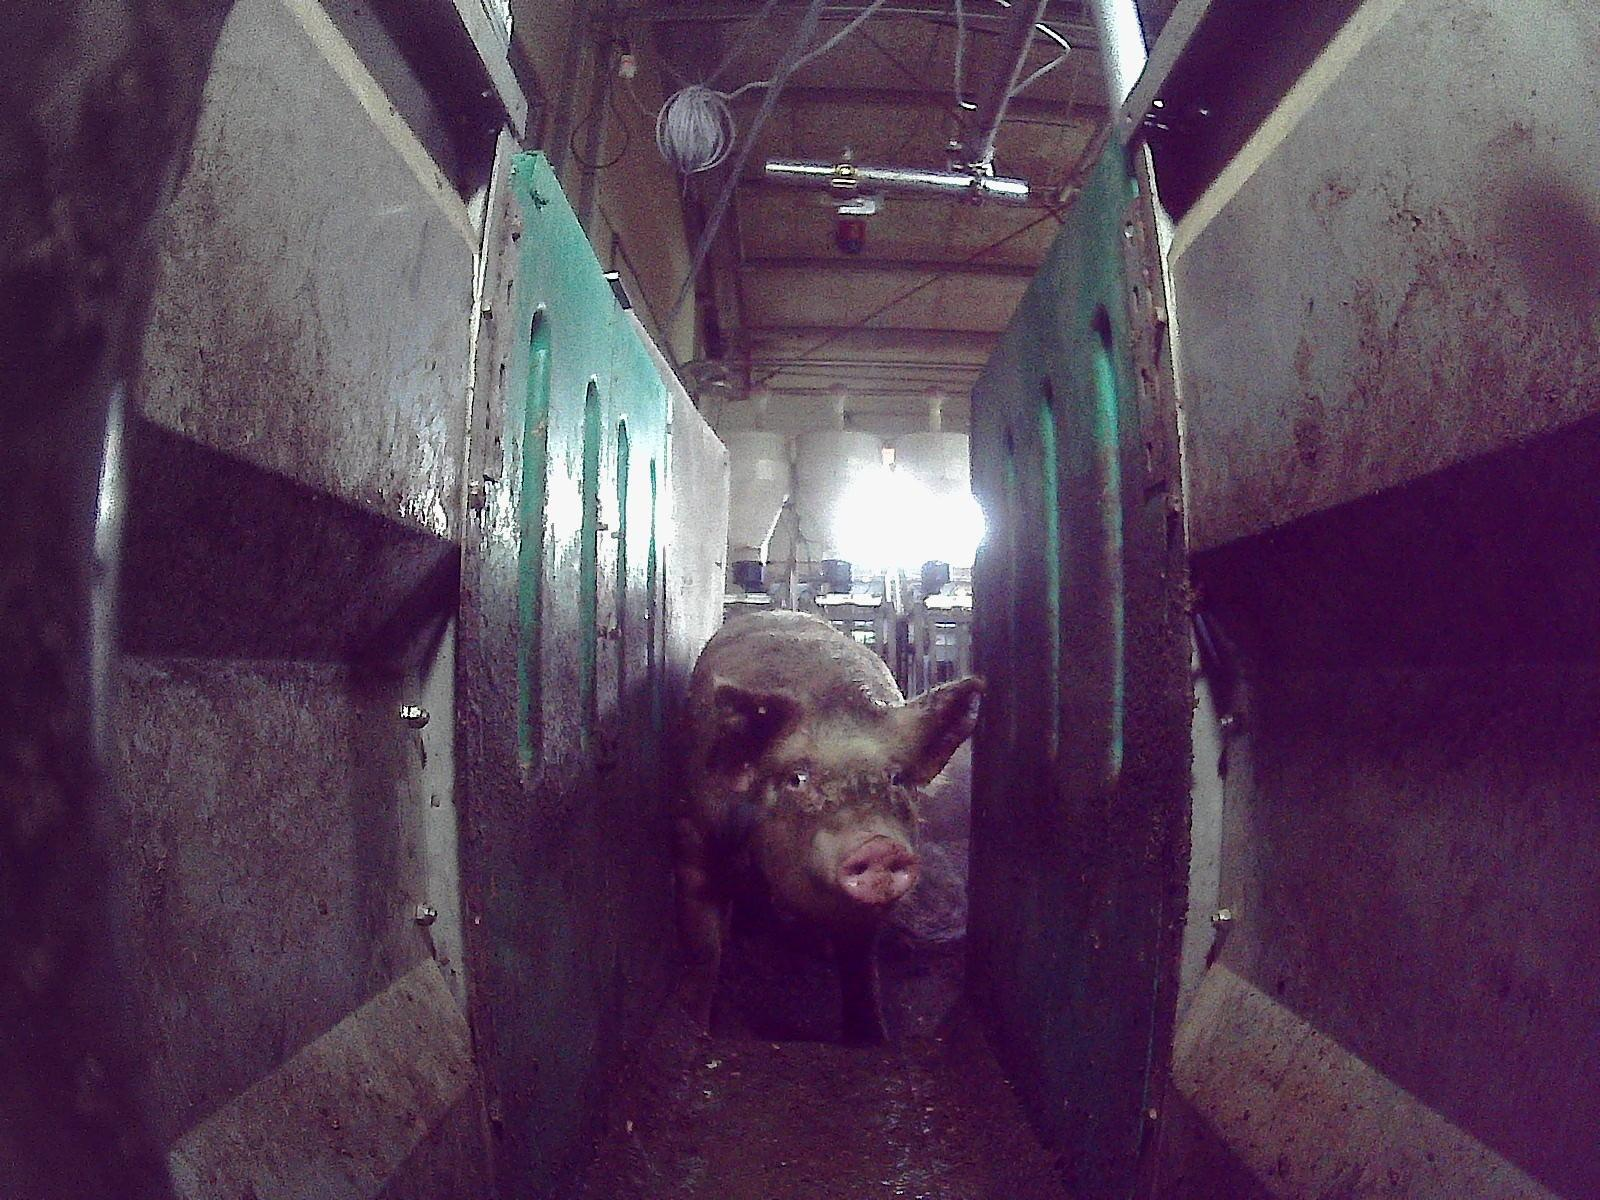Face: (741, 696, 918, 930)
